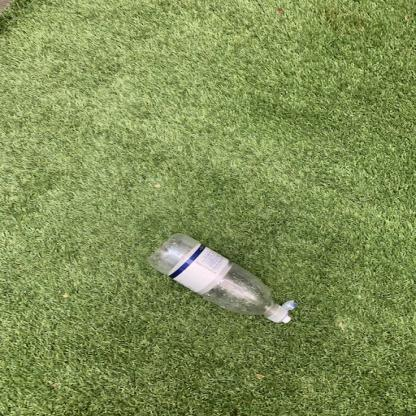trash: (147, 232, 300, 326)
